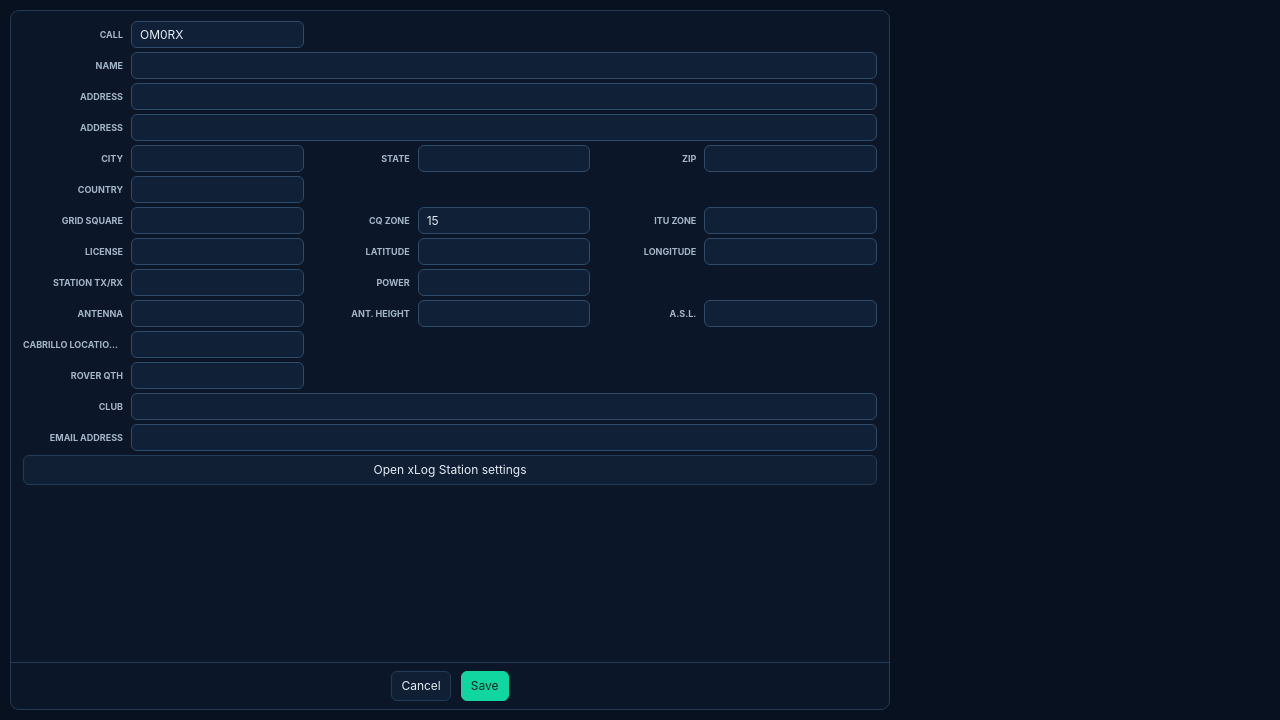
Test case: preserves failed stale-save edits without closing
This screenshot has width=1280, height=720.
Type "Keep me" into the field labelled "City". click: (217, 158)
box: [131,145,304,172]
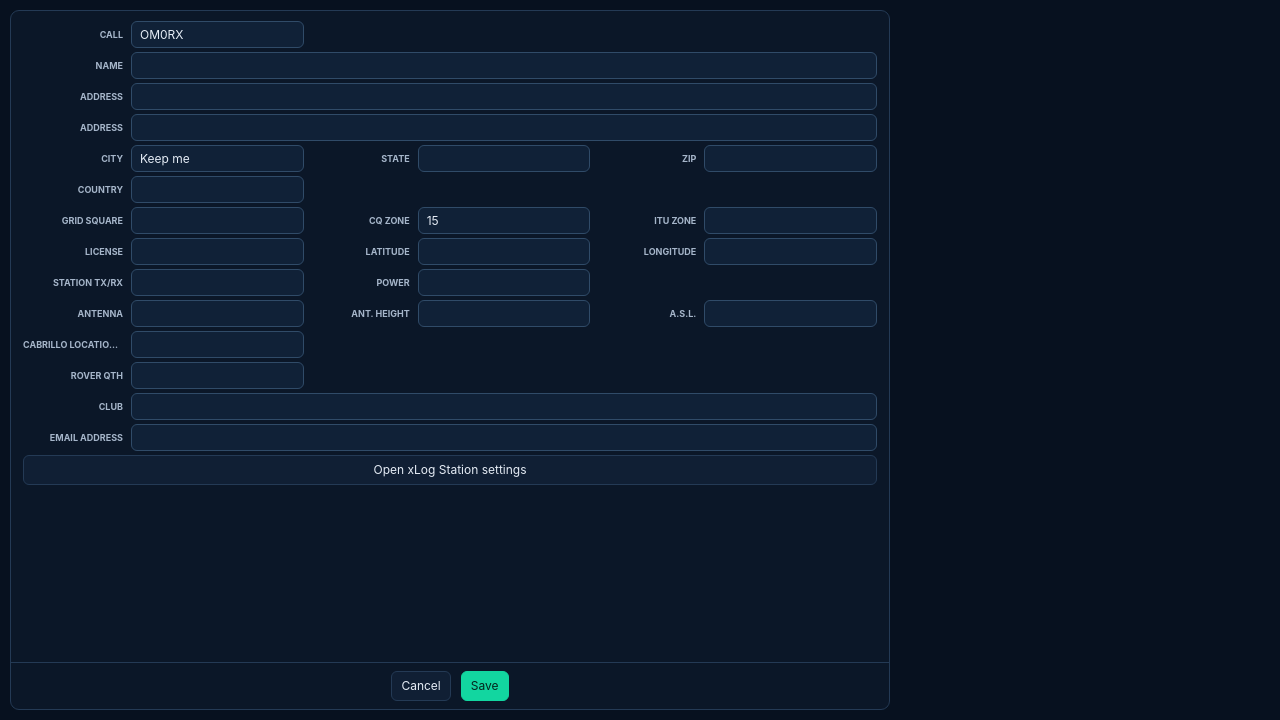
Click the button "Save". click: (485, 686)
box: [461,671,509,701]
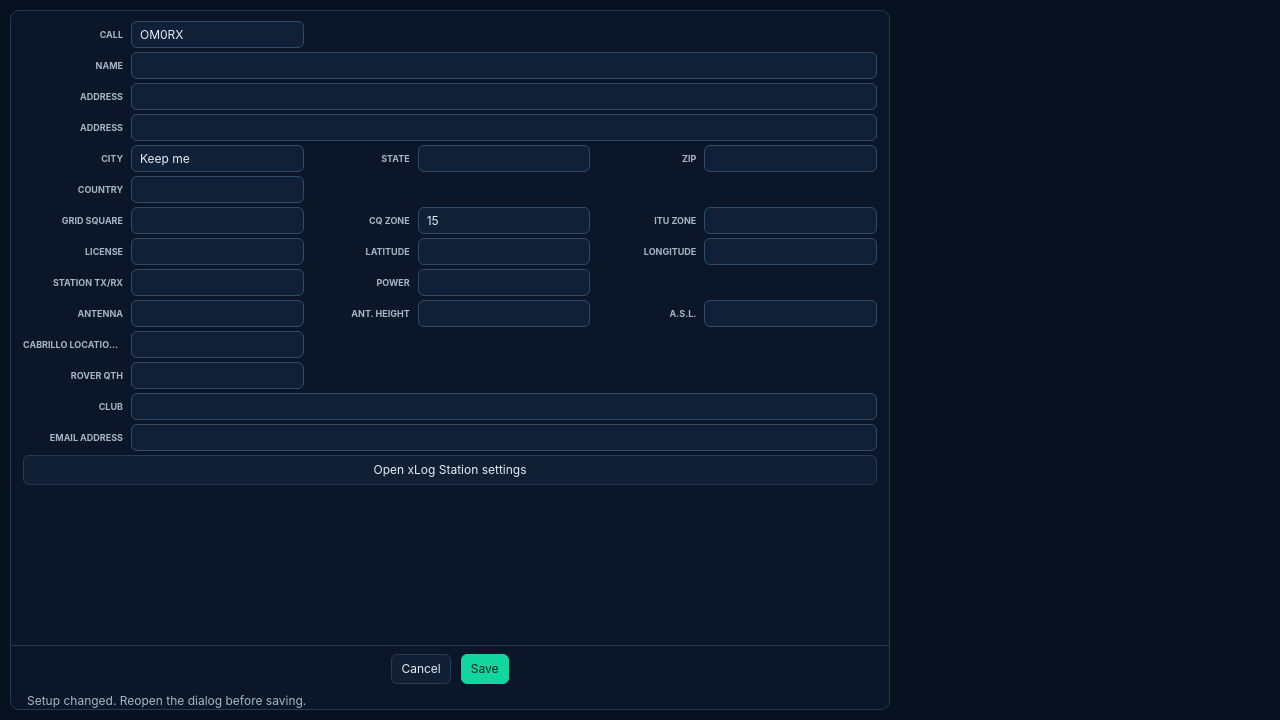
expect the message shows "Setup changed": met, box [27,693,306,708]
